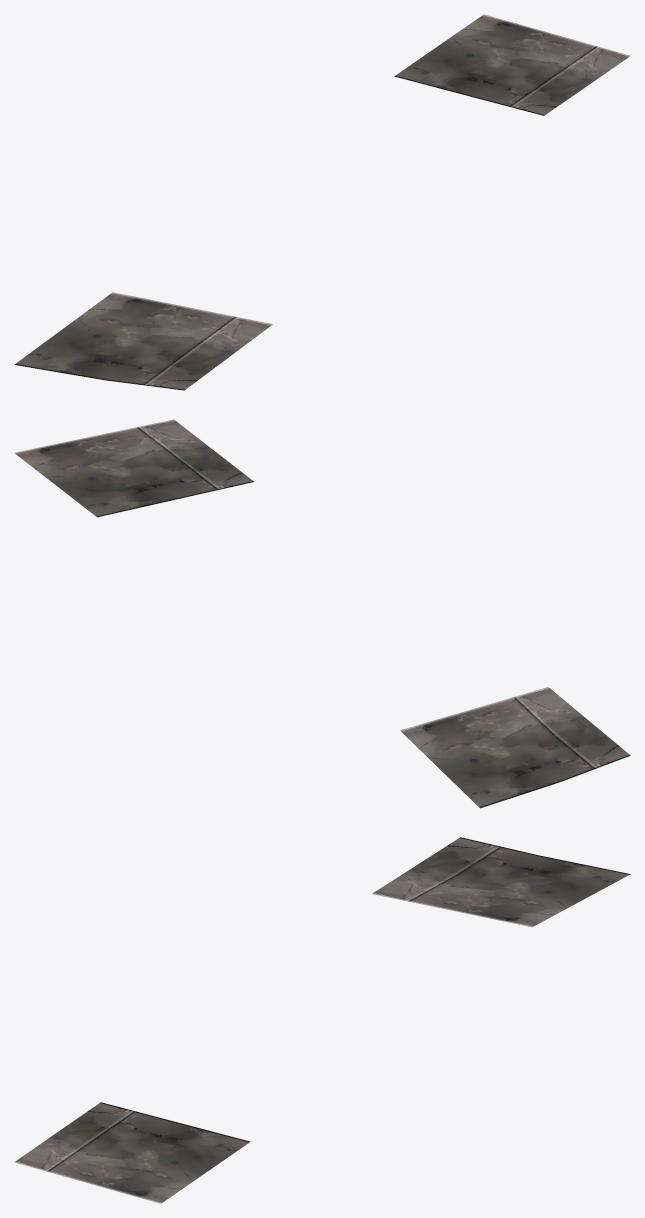
Rendered from CH09_SMAUG_PLAYSURFACE_LAIR144.fbx.
The picture shows the model from 3 angles, top to bottom: view 1: azimuth 90°, elevation 25°; view 2: azimuth 150°, elevation 25°; view 3: azimuth 270°, elevation 25°; orthographic projection.
Visible parts, largest first — view 1: CH09_SMAUG_PLAYSURFACE_LAIR144; view 2: CH09_SMAUG_PLAYSURFACE_LAIR144; view 3: CH09_SMAUG_PLAYSURFACE_LAIR144.
Part boxes in pixels (x1,y1,x2,y2): CH09_SMAUG_PLAYSURFACE_LAIR144: [14, 14, 630, 390]; CH09_SMAUG_PLAYSURFACE_LAIR144: [14, 419, 630, 808]; CH09_SMAUG_PLAYSURFACE_LAIR144: [14, 837, 630, 1203].
Bounding box in the file's own units: 54771 × 716 × 38443.
1 material, 1 textured.
